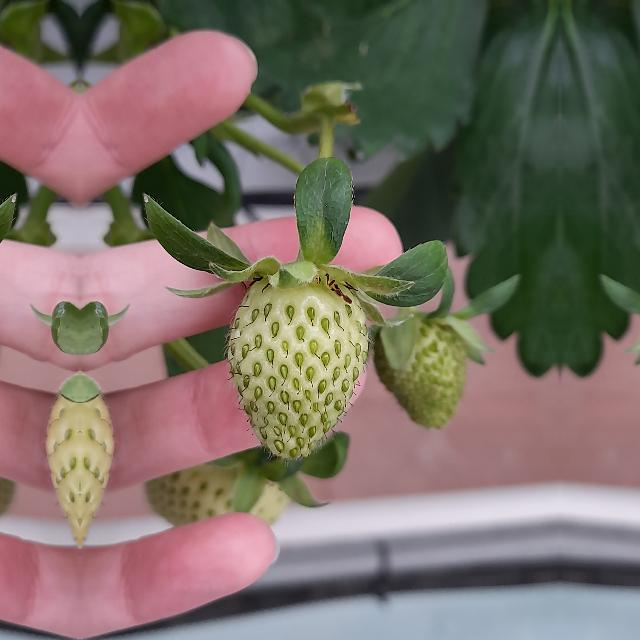Health_25: (228, 277, 368, 459), (374, 301, 466, 427)
